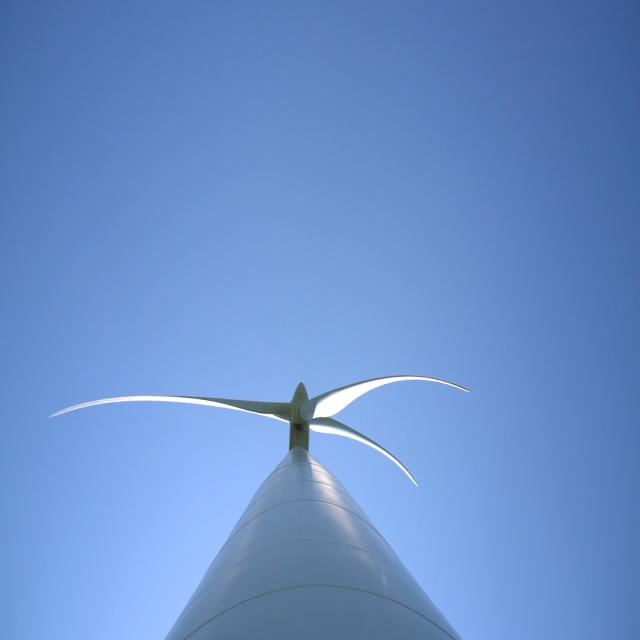blade 1: (325, 342, 557, 419)
blade 2: (347, 426, 427, 498)
blade 3: (10, 352, 272, 422)
